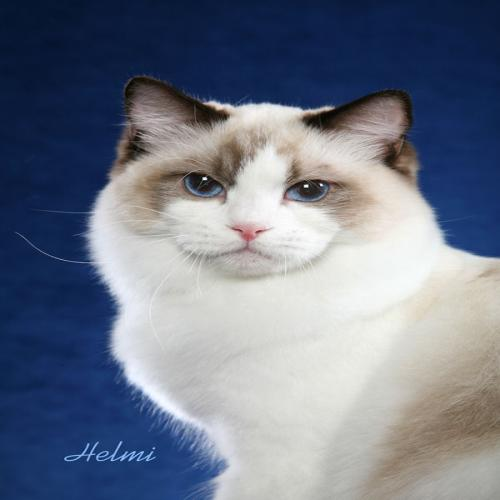ragdoll: (85, 64, 433, 295)
